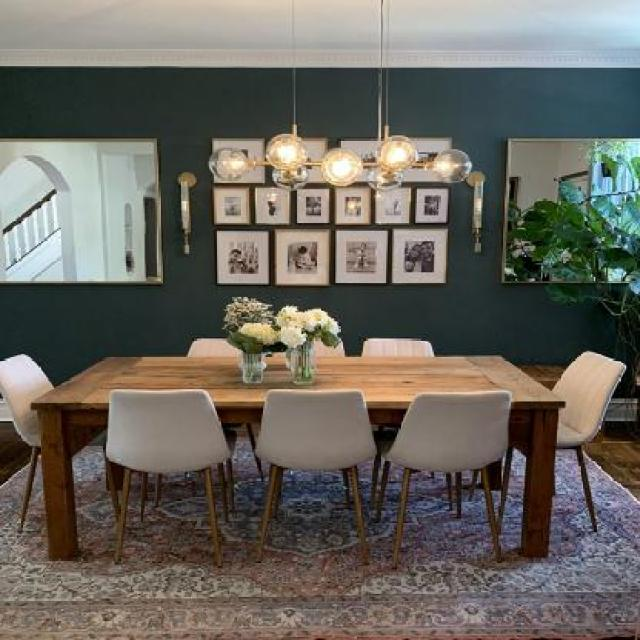floor: (0, 400, 640, 640), (0, 402, 14, 422)
